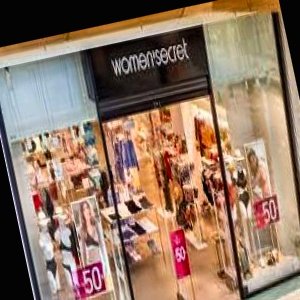women_secret: (125, 11, 248, 66)
